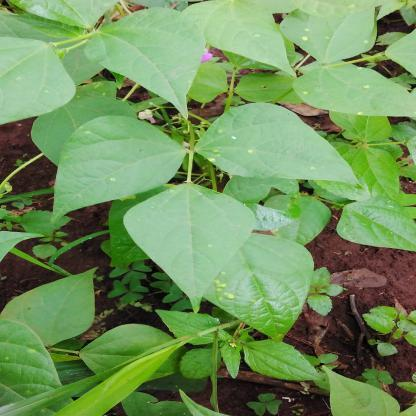Beans_Rust: (125, 186, 251, 314), (197, 102, 363, 190), (52, 117, 183, 221), (207, 233, 312, 344), (294, 61, 416, 119), (280, 10, 378, 62)
